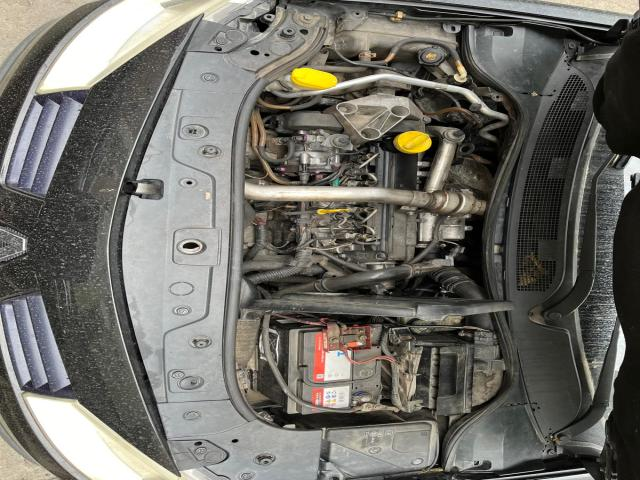accumulator: (257, 313, 398, 414)
antifreeze_tank: (332, 15, 457, 60), (392, 42, 450, 67)
fuse_box: (322, 421, 438, 478)
high_pressure_pump: (280, 129, 343, 185)
